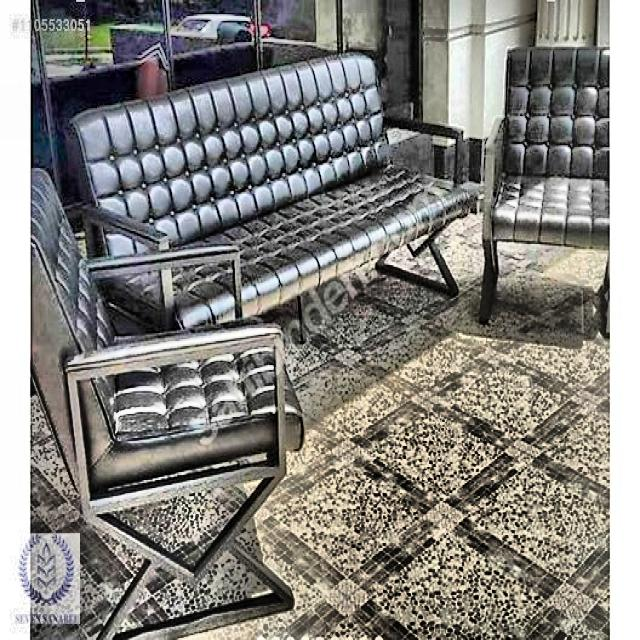sofa: (68, 50, 476, 344), (476, 44, 610, 338)
